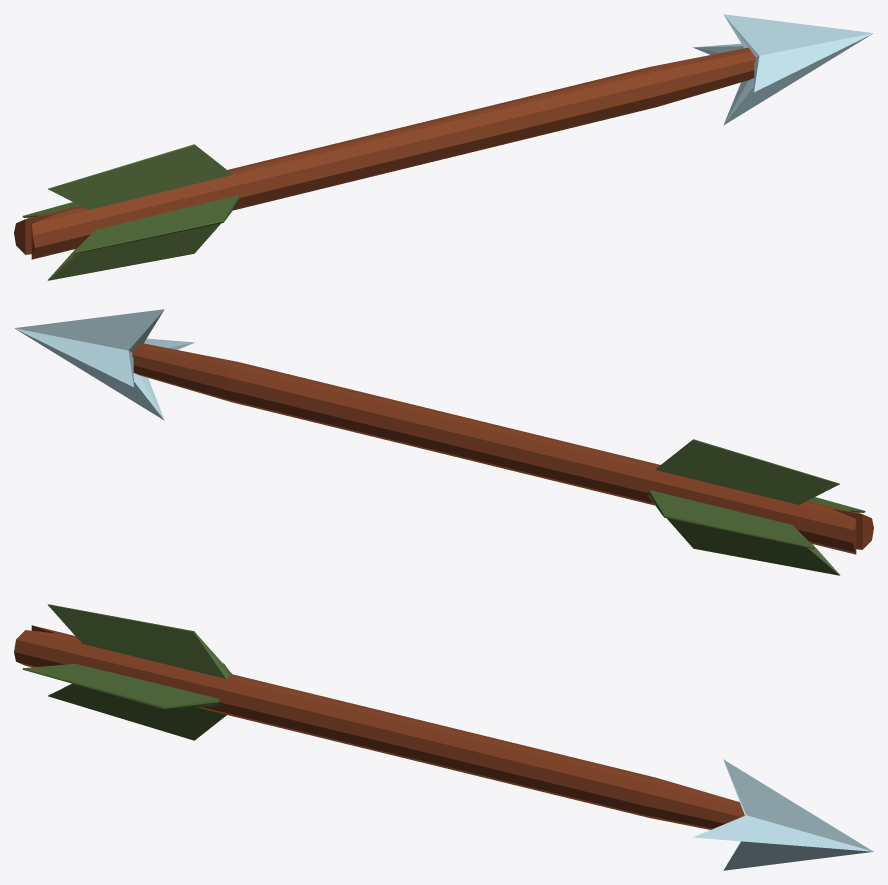
File: Arrow.glb
3 renders of one model, top to bottom at view 1: azimuth 30°, elevation 25°; view 2: azimuth 150°, elevation 25°; view 3: azimuth 330°, elevation 25°, orthographic.
Parts seen in each view (by area): view 1: Arrow; view 2: Arrow; view 3: Arrow.
Part boxes in pixels (x1,y1,x2,y2): Arrow: [14, 14, 873, 280]; Arrow: [14, 309, 873, 575]; Arrow: [14, 604, 873, 870].
Bounding box in the file's own units: 4.37 × 0.5484 × 0.5484.
Materials: 1 (1 with a texture image).
